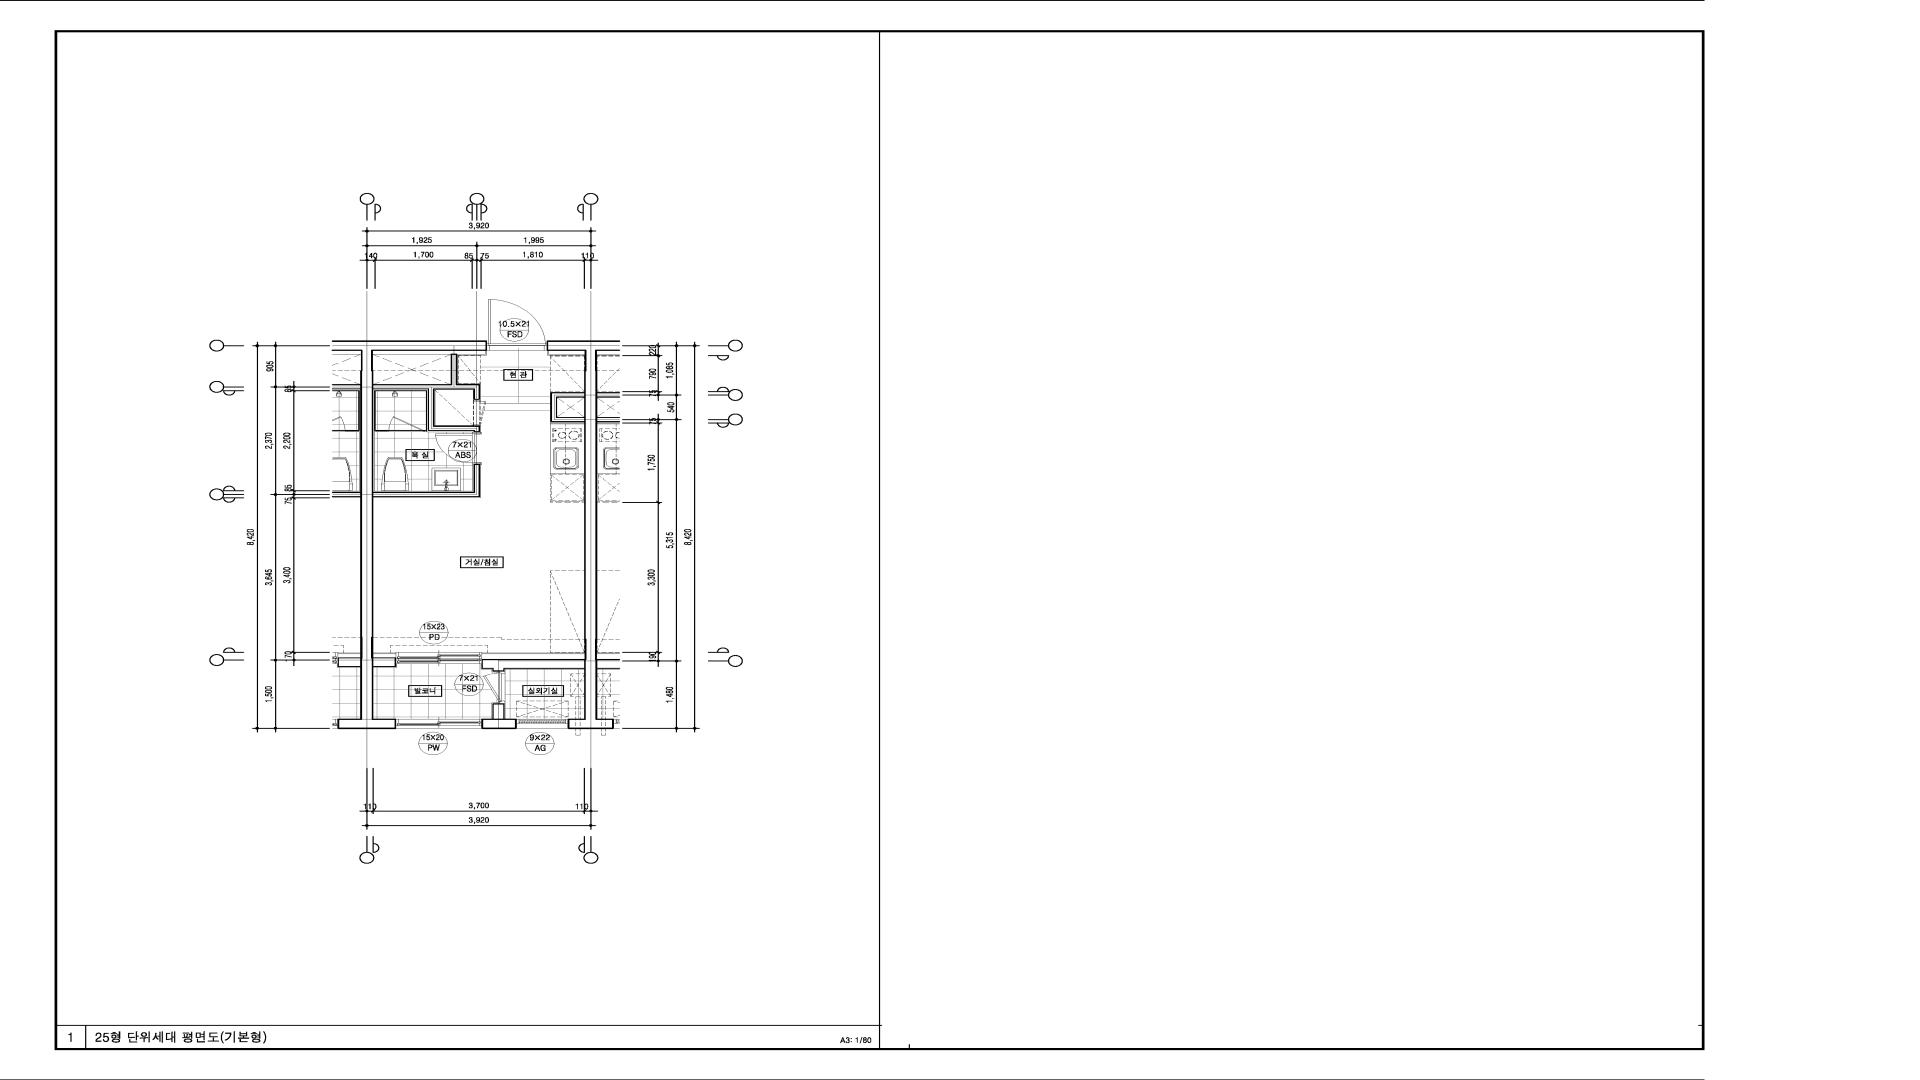background: (0, 1, 1920, 1080)
door: (487, 299, 547, 351), (435, 433, 481, 464), (484, 671, 505, 704), (389, 417, 425, 431), (473, 400, 487, 426)
wall: (360, 340, 487, 729), (481, 340, 597, 729), (373, 353, 481, 433), (373, 464, 481, 497), (550, 392, 584, 422), (481, 703, 517, 729), (373, 430, 389, 431)
window: (396, 653, 481, 663), (396, 719, 481, 729), (517, 719, 568, 729)
